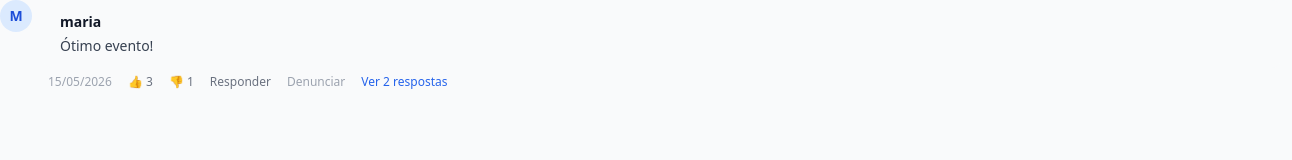
Scenario: Comment › exibe formulário de resposta ao clicar em Responder
This screenshot has width=1292, height=160.
Click the button "Responder": (240, 82) [210,74,271,90]
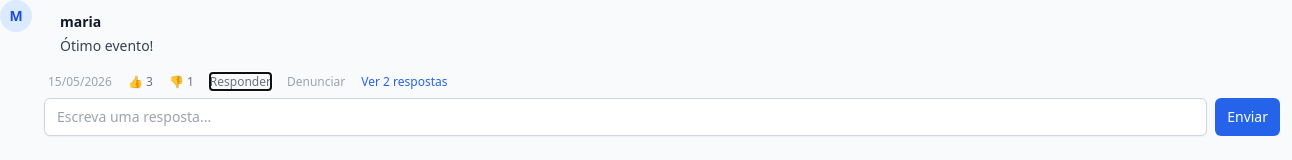
Expected: the field with placeholder "Escreva uma resposta..." is shown, [44,98,1207,136]
